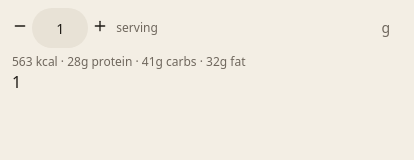
Scenario: ServingAmount › takes an eighth typed as a fraction, and carries it through a half step
Replace the text in the field named "Amount in servings" with "1/8" at (60, 28), box [32,8,88,48]
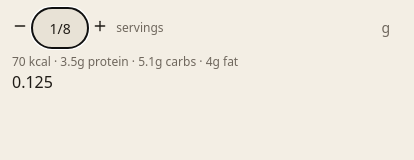
Expected: the text with test id "amount" reads "0.125", [12,71,53,93]
Click the button named "Increase" at (100, 26), box [92,18,108,34]
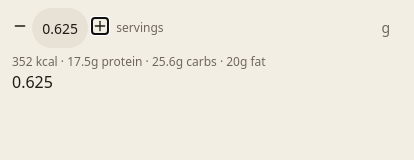
Expected: the text with test id "amount" reads "0.625", [12,71,53,93]
